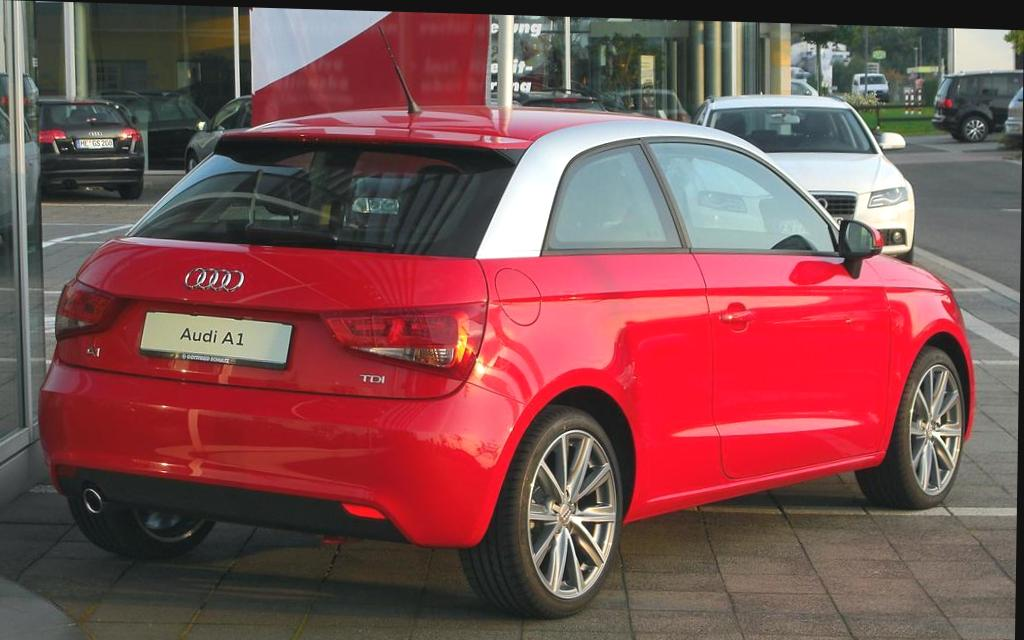License_Plate: (138, 306, 290, 368), (778, 218, 843, 240), (74, 138, 114, 151)
